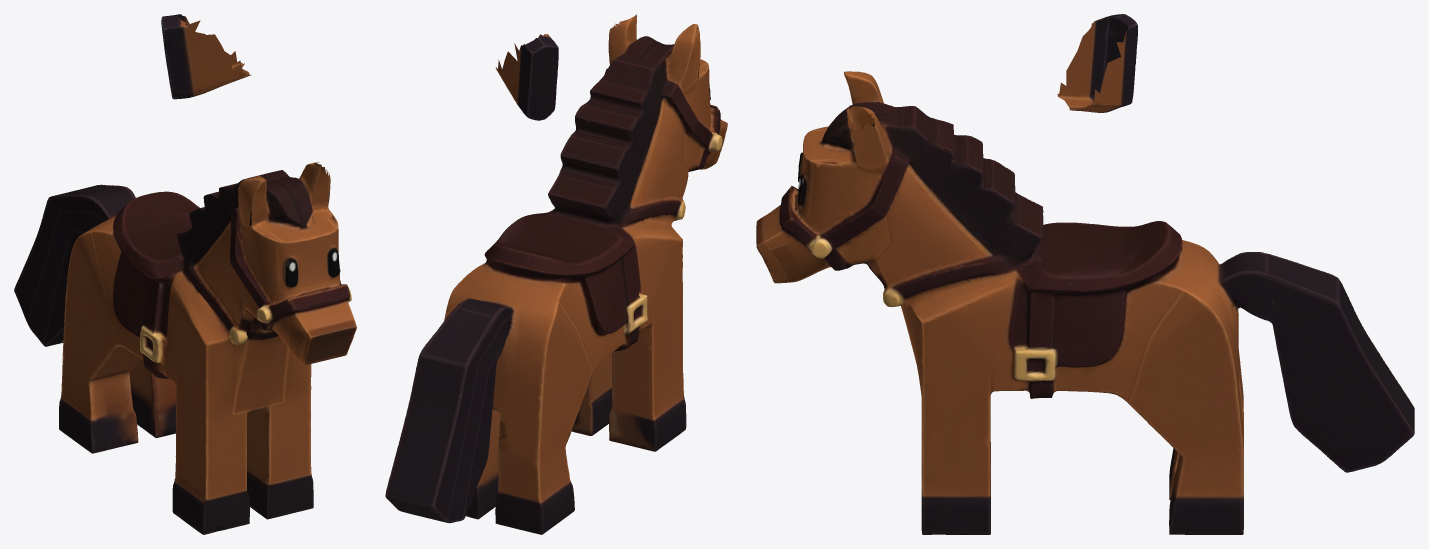
Rendered from horse.glb.
3 views of the same model, side by side, from view 1: azimuth 30°, elevation 25°; view 2: azimuth 150°, elevation 25°; view 3: azimuth 270°, elevation 25° (orthographic). The views are drawn at different scales.
Visible parts, largest first — view 1: horse; view 2: horse; view 3: horse.
Boxes of the visible parts, bbox=[...] form: horse: bbox=[14, 14, 356, 534]; horse: bbox=[385, 14, 727, 534]; horse: bbox=[756, 14, 1414, 534].
Bounding box in the file's own units: 0.2926 × 1.01 × 1.23.
1 material, 1 textured.
